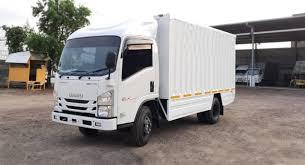truck: (47, 7, 169, 149)
